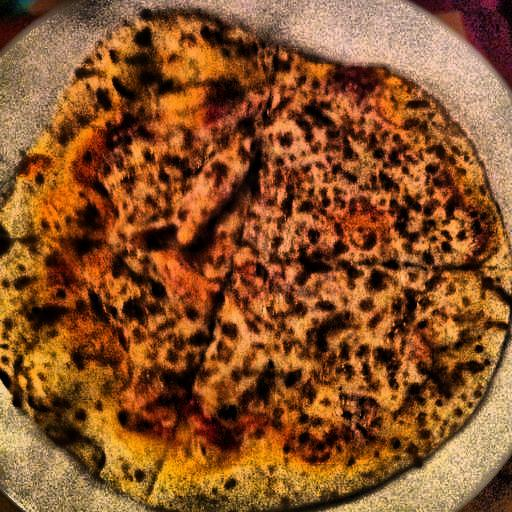pizza: (1, 21, 512, 503)
